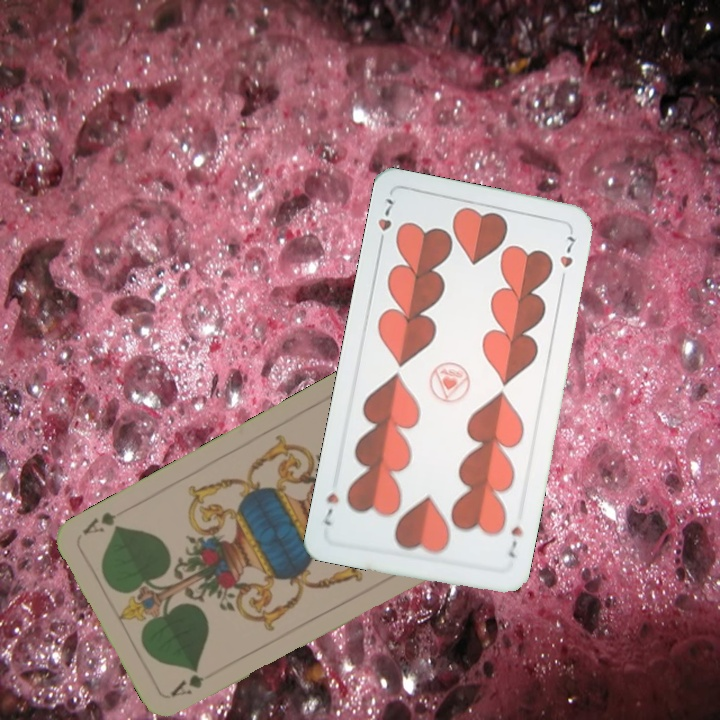GA: (166, 667, 222, 699)
H7: (373, 194, 396, 251), (503, 522, 525, 560)
